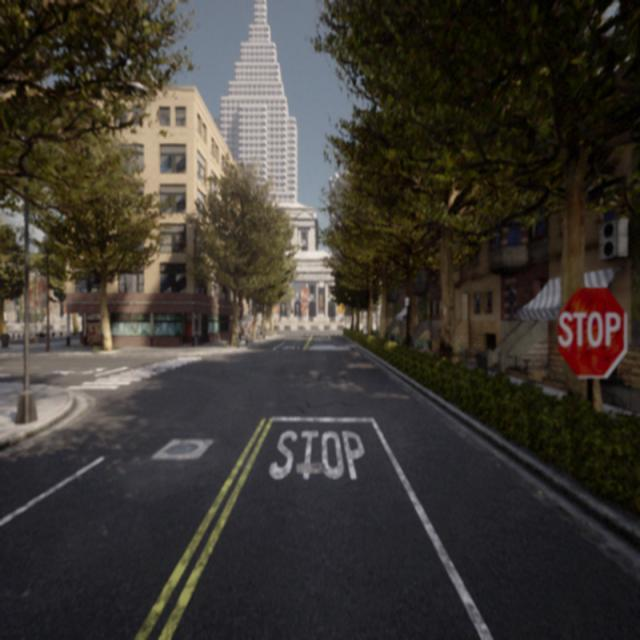stop sign: (553, 281, 629, 382), (556, 308, 622, 350)
